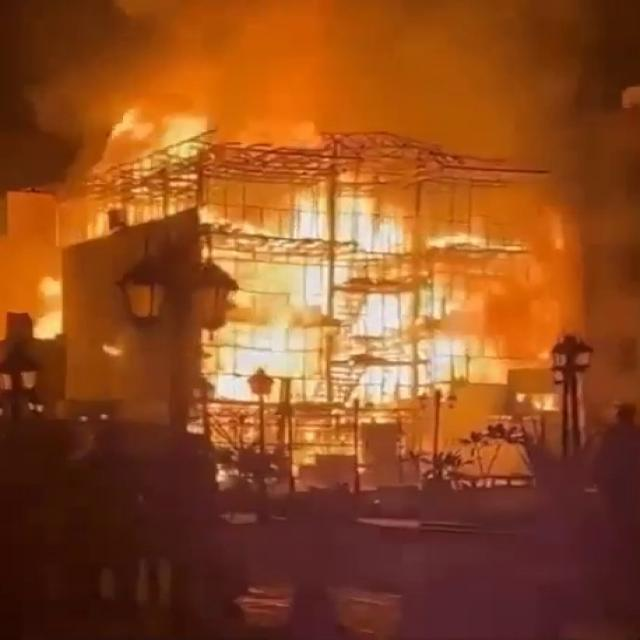Fire: (211, 202, 425, 402), (351, 265, 492, 399)
